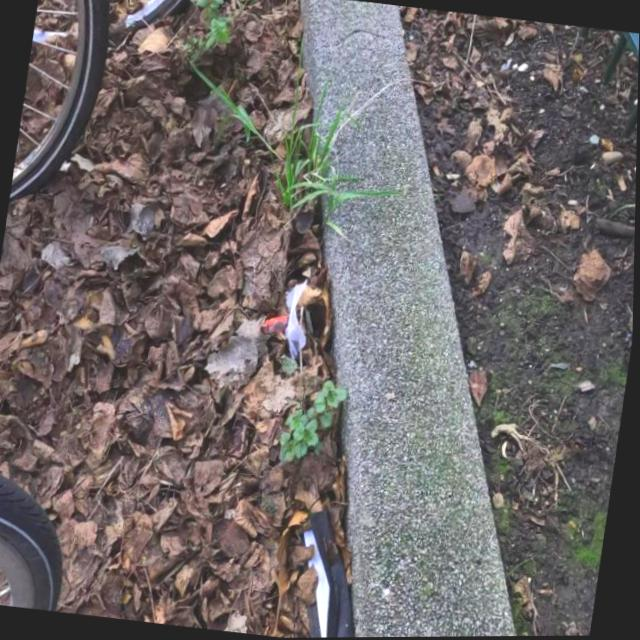Mask: (281, 483, 383, 638)
